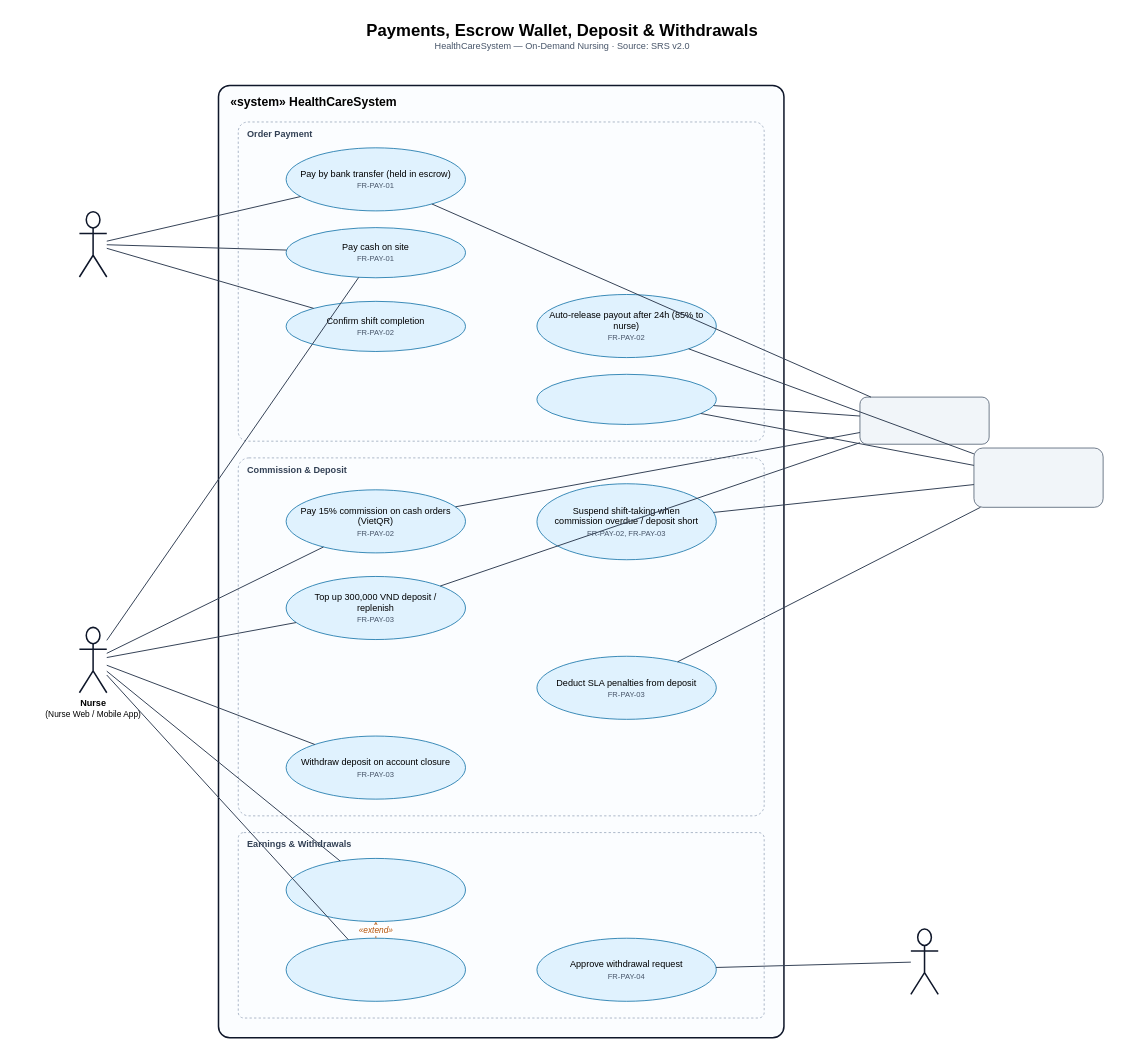
Some shapes in this 1123 by 1051 pixel diagram are drawn without their labels. Here are the shapes that lost their labels. From the top down, the centre of each, then its label:
the point at 92,244: Customer (Patient / Family)
the point at 626,399: Refund customer Section 5.2
the point at 924,420: «system» Payment Gateway PayOS / VNPay / VietQR
the point at 1038,477: «system» Automated System Cronjob / Worker Matching Engine
the point at 375,890: View earnings statistics & balance history FR-PAY-04
the point at 375,969: Create bank withdrawal request FR-PAY-04
the point at 924,961: Administrator (Medical Admin / Operator)
